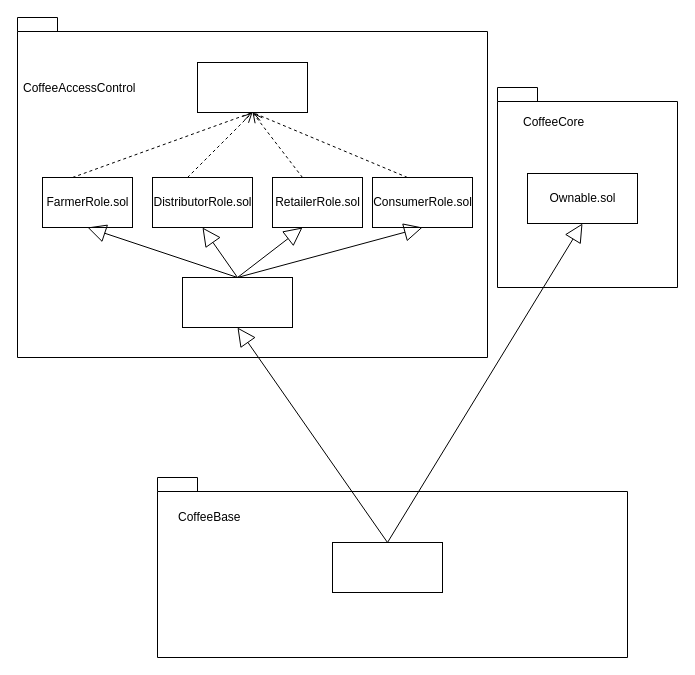
The diagram is 695 pixels wide and 675 high, and some of its shapes have lost their labels. The centre of each missing label's shape, as x and y in pixels:
"AccessControl.sol" belongs at point (237, 302).
"Roles.sol" belongs at point (252, 87).
"SupplyChain.sol" belongs at point (387, 567).
